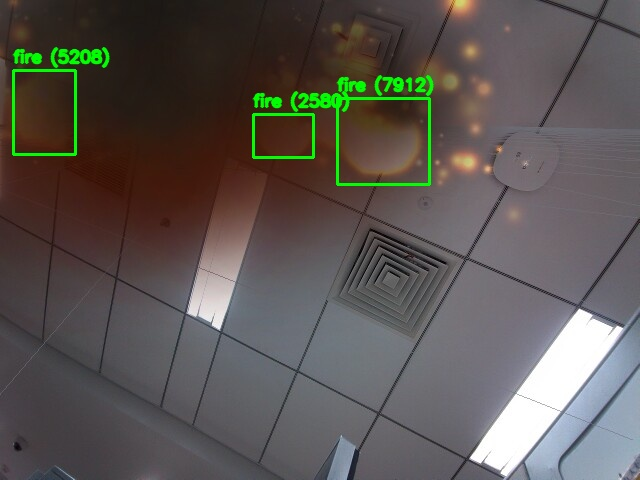fire: (337, 98, 429, 184), (13, 70, 75, 154), (253, 114, 313, 157)
